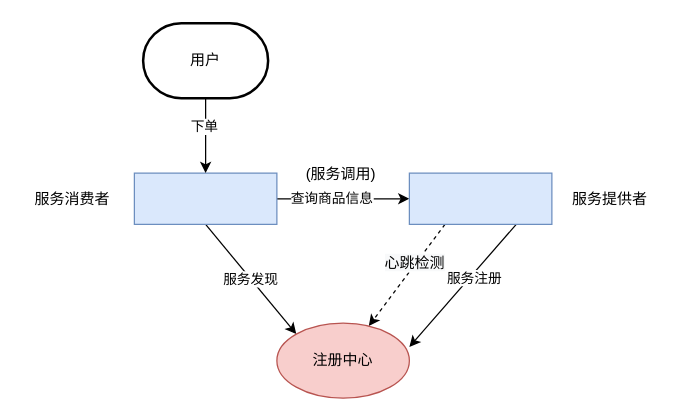
This 680x420 diagram has some shape labels left out. Here are the shapes that lost their labels. From the top down, the centre of each, then its label:
the point at 205,198: 订单微服务
the point at 480,198: 商品微服务
